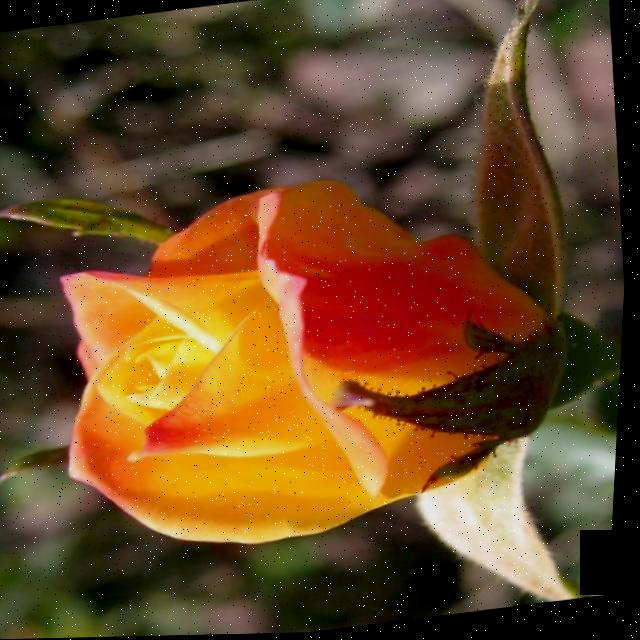rose: (0, 91, 636, 632)
